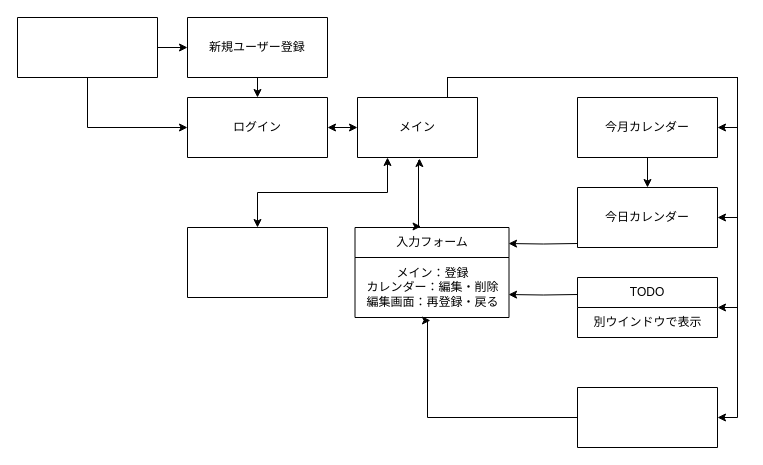
This 763x465 diagram has some shape labels left out. The shapes that lost their labels are listed below. From the top down, each one's centre as x and y in pixels, then its label:
At pixel 87 47: "TOPページ".
At pixel 257 262: "繰り返し予定".
At pixel 647 417: "今週カレンダー".
